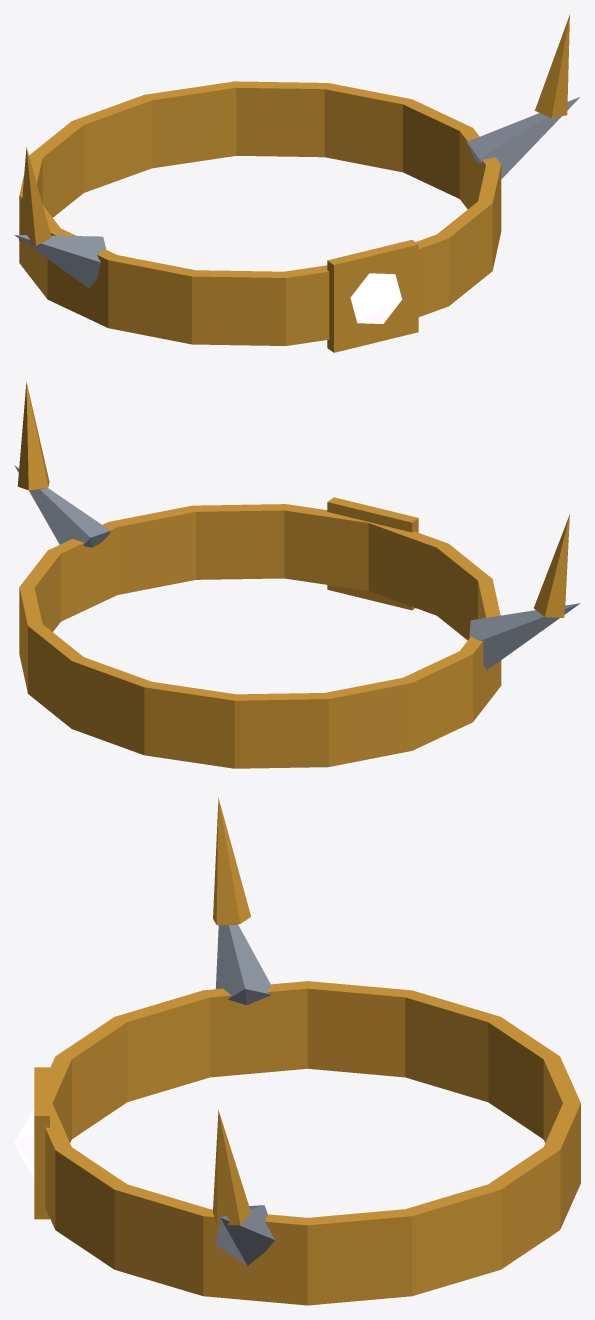
The model's file is armor_lord_head_epic_human.glb.
3 views of the same model, one above another, from view 1: azimuth 30°, elevation 25°; view 2: azimuth 150°, elevation 25°; view 3: azimuth 270°, elevation 25° (orthographic). The views are drawn at different scales.
Parts seen in each view (by area): view 1: armor_lord_head_epic_human__head; view 2: armor_lord_head_epic_human__head; view 3: armor_lord_head_epic_human__head.
Part boxes in pixels (x1,y1,x2,y2): armor_lord_head_epic_human__head: (14,15,579,352); armor_lord_head_epic_human__head: (14,381,580,768); armor_lord_head_epic_human__head: (14,797,580,1305).
Bounding box in the file's own units: 60.18 × 20.79 × 44.26.
